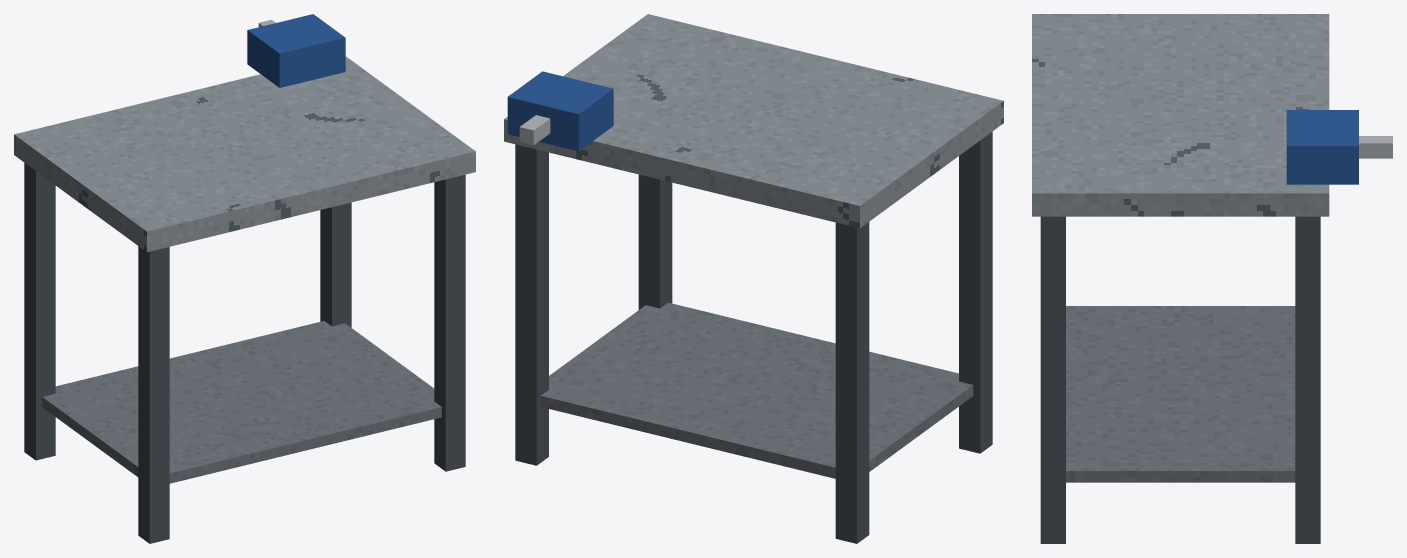
File: f_workbench.glb
3 renders of one model, left to right at view 1: azimuth 30°, elevation 25°; view 2: azimuth 150°, elevation 25°; view 3: azimuth 270°, elevation 25°, orthographic. The views are drawn at different scales.
Visible parts, largest first — view 1: block_top, block_shelf, block_leg-0.480.27, block_leg0.420.27, block_leg-0.48-0.33, block_vise, block_leg0.42-0.33; view 2: block_top, block_shelf, block_leg-0.48-0.33, block_leg0.42-0.33, block_leg-0.480.27, block_vise, block_leg0.420.27, block_vise-screw; view 3: block_top, block_shelf, block_leg0.42-0.33, block_leg0.420.27, block_vise, block_vise-screw.
Part boxes in pixels (box(x1,y1,x2,y2)): block_top: box(14, 56, 475, 252); block_shelf: box(42, 321, 441, 483); block_leg-0.480.27: box(138, 246, 169, 543); block_leg0.420.27: box(434, 174, 465, 471); block_leg-0.48-0.33: box(24, 163, 55, 460); block_vise: box(247, 14, 345, 87); block_leg0.42-0.33: box(320, 202, 351, 327); block_top: box(504, 14, 1003, 228); block_shelf: box(541, 302, 973, 478); block_leg-0.48-0.33: box(835, 222, 869, 543); block_leg0.42-0.33: box(515, 144, 548, 465); block_leg-0.480.27: box(959, 131, 992, 453); block_vise: box(507, 71, 613, 151); block_leg0.420.27: box(638, 174, 672, 309); block_vise-screw: box(519, 115, 550, 145); block_top: box(1032, 14, 1329, 216); block_shelf: box(1066, 306, 1295, 482); block_leg0.42-0.33: box(1295, 216, 1320, 543); block_leg0.420.27: box(1040, 216, 1065, 543); block_vise: box(1286, 110, 1358, 184); block_vise-screw: box(1359, 136, 1392, 158).
Bounding box in the file's own units: 1 × 1.02 × 0.85.
Materials: 2 (2 with a texture image).
